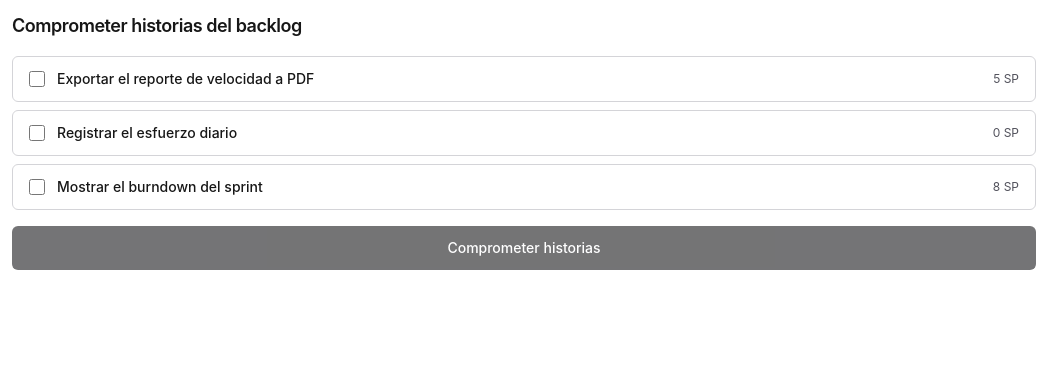
004/US2 - Comprometer historias en un sprint › Lote parcialmente inválido
This screenshot has width=1048, height=373.
Click the checkbox labelled "Exportar el reporte de velocidad a PDF".
click(37, 79)  # box [29,71,45,87]
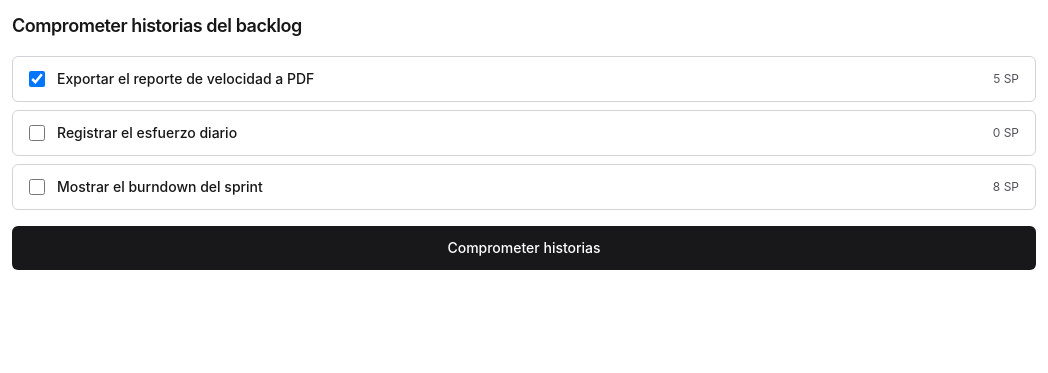
Click the checkbox labelled "Registrar el esfuerzo diario".
click(37, 133)  # box [29,125,45,141]
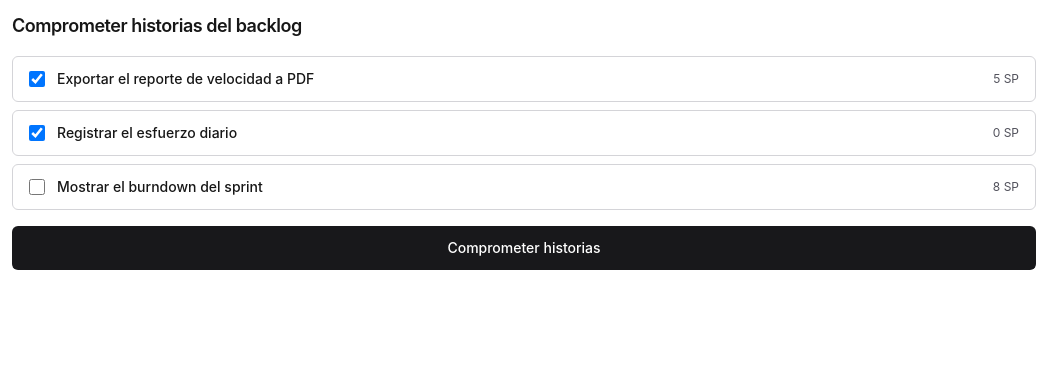
Click the checkbox labelled "Mostrar el burndown del sprint".
click(37, 187)  # box [29,179,45,195]
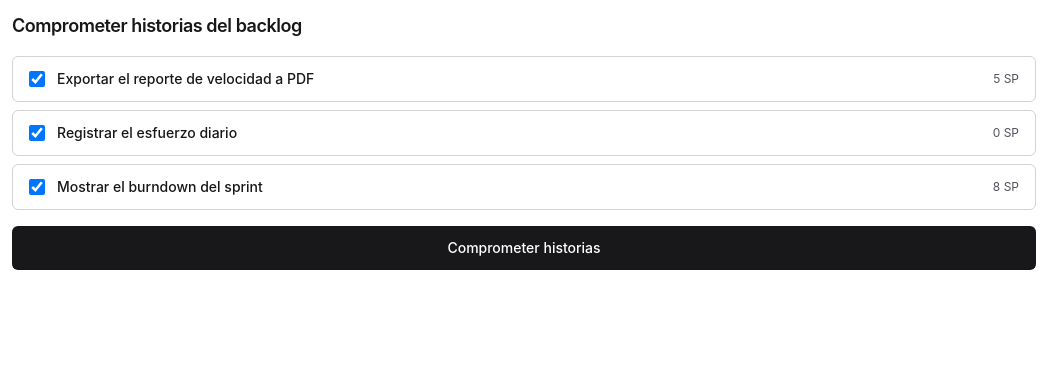
Click the button "Comprometer historias".
click(524, 248)  # box [12,226,1036,270]
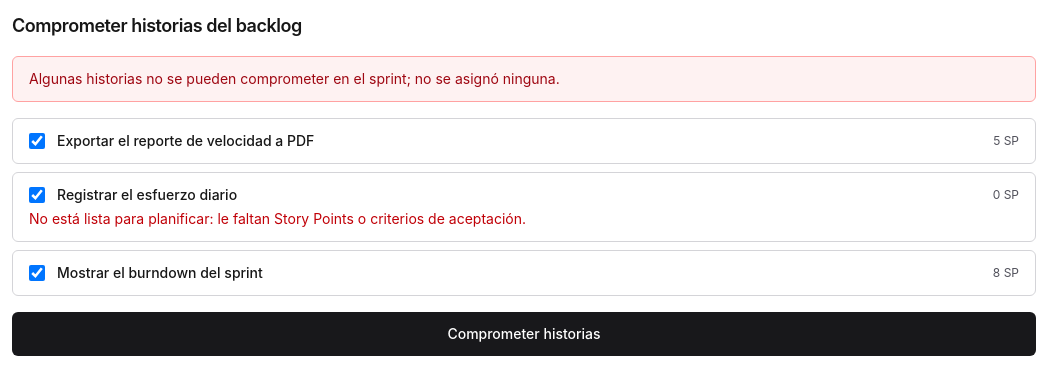
Expected: the list item "Registrar el esfuerzo diario" is shown, [12,172,1036,242]
Expected: the message reads "Algunas historias no se pueden comprometer en el sprint; no se asignó ninguna.", [29,70,560,87]
Expected: the list item "Registrar el esfuerzo diario" shows "No está lista para planificar: le faltan Story Points o criterios de aceptación.", [29,210,526,227]
